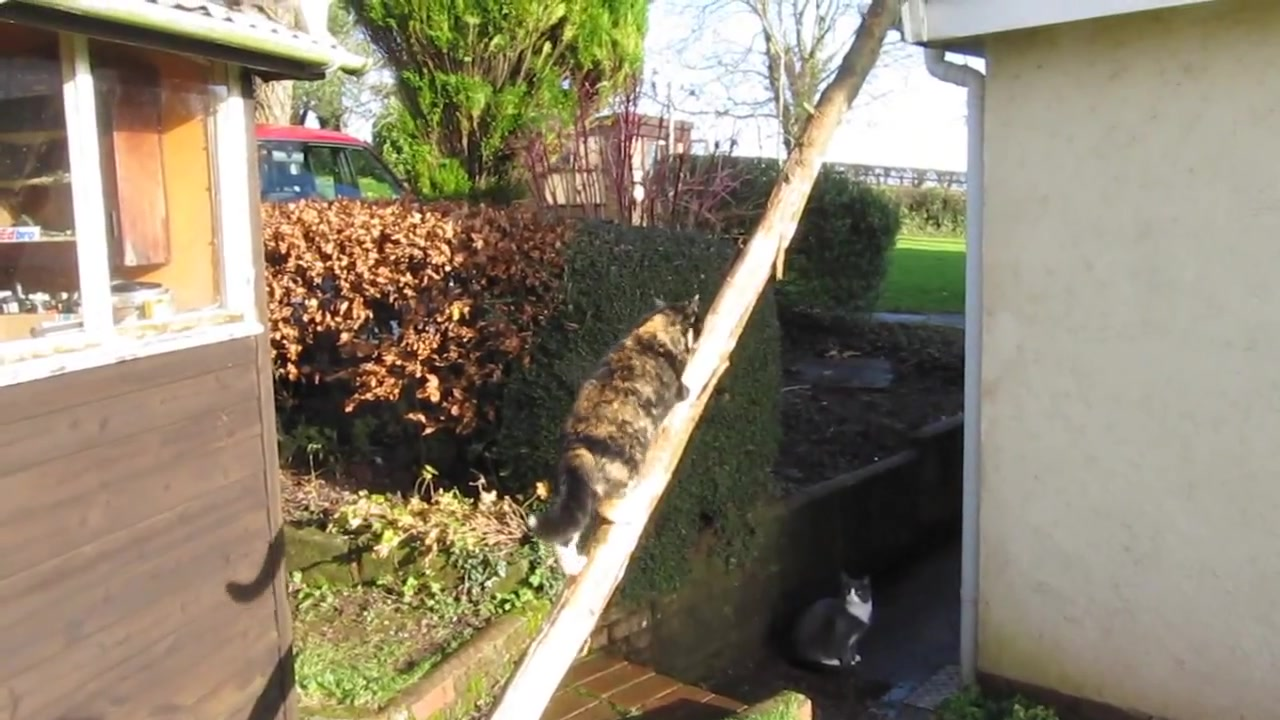cat: (524, 293, 706, 579)
